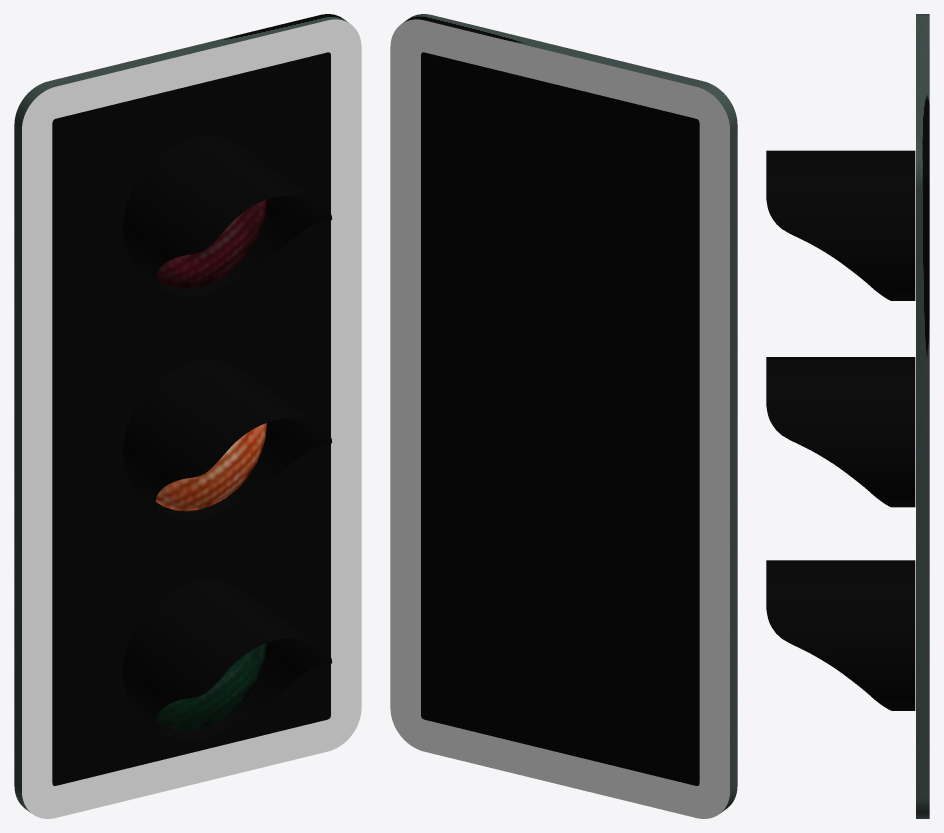
The model's file is SignalTrafficVertical.fbx.
3 renders of one model, left to right at view 1: azimuth 30°, elevation 25°; view 2: azimuth 150°, elevation 25°; view 3: azimuth 270°, elevation 25°, orthographic. The views are drawn at different scales.
Parts seen in each view (by area): view 1: Sign; view 2: Sign; view 3: Sign.
Boxes of the visible parts, box(x1,y1,x2,y2) form: Sign: box(14, 14, 361, 818); Sign: box(390, 14, 737, 818); Sign: box(766, 14, 929, 818).
Bounding box in the file's own units: 51.35 × 106 × 23.19.
Materials: 1 (1 with a texture image).
